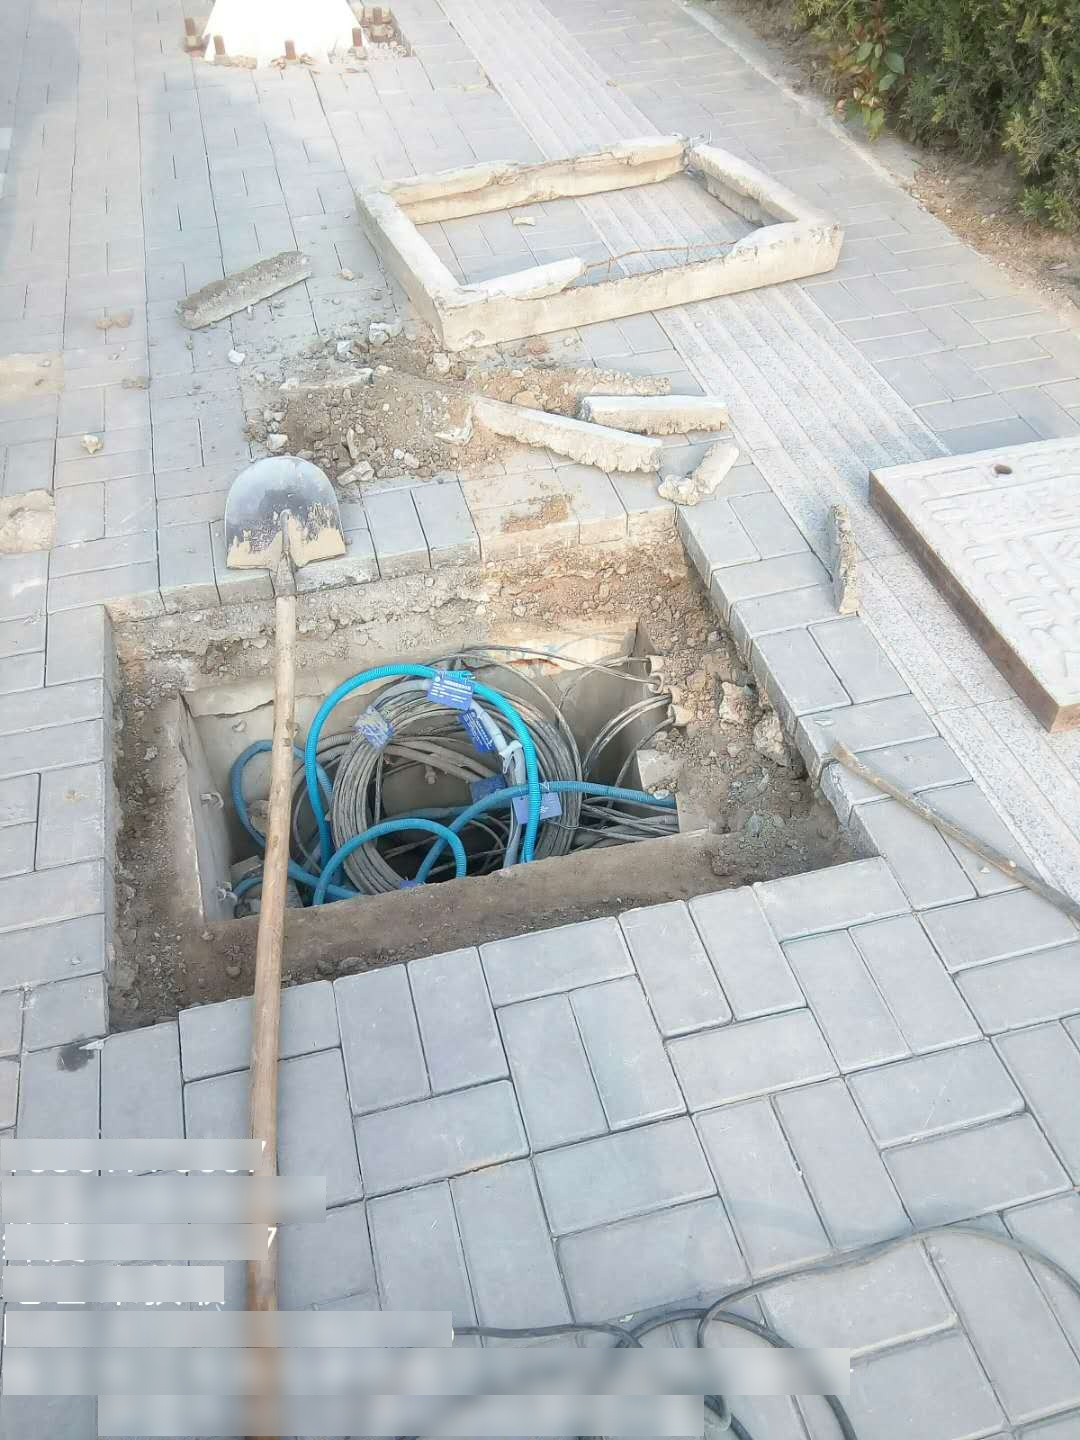lose: (133, 579, 756, 934)
